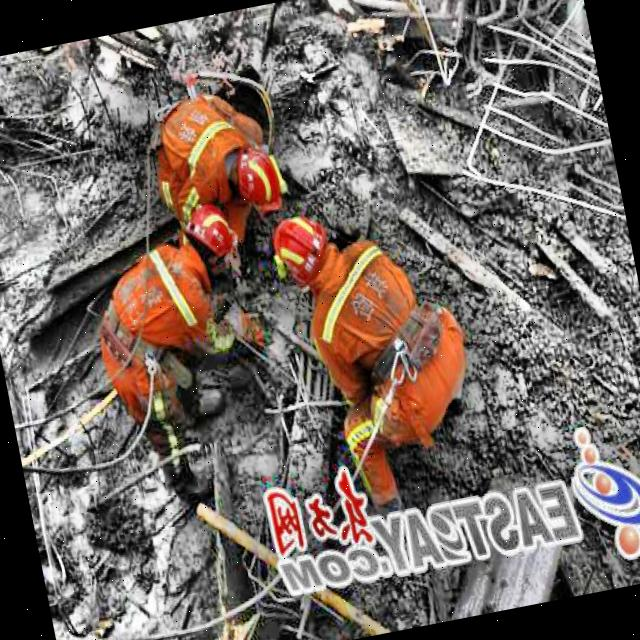helmet: (264, 209, 340, 292), (230, 141, 292, 216), (185, 200, 244, 268)
